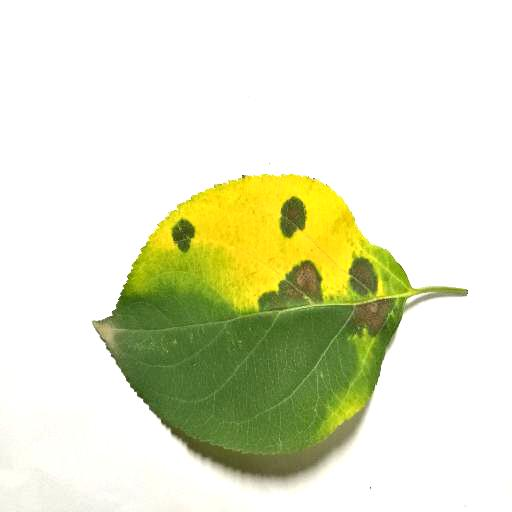Brown_Spot: (261, 265, 337, 311), (346, 256, 392, 325), (270, 187, 307, 241), (157, 223, 195, 253)
